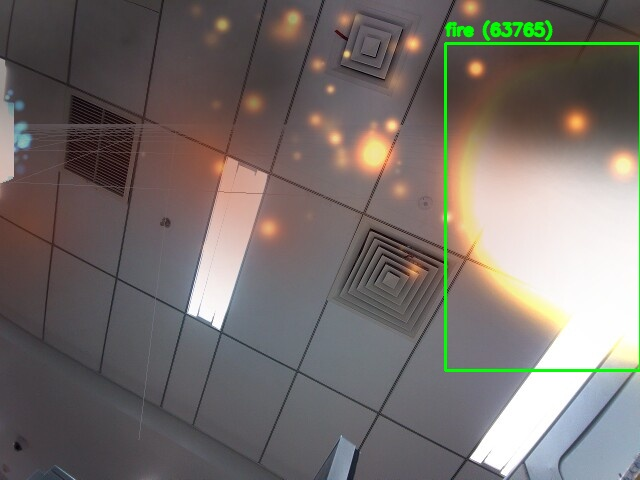fire: (445, 43, 640, 370)
